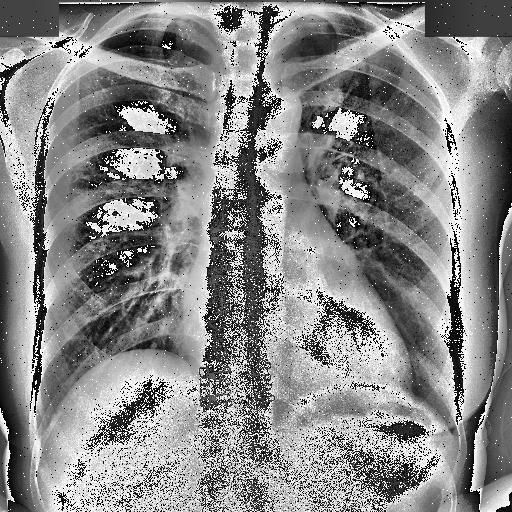13- Pulmonary fibrosis: (90, 57, 197, 123)
3- Cardiomegaly: (176, 292, 420, 412), (184, 284, 410, 406), (186, 292, 412, 404)
